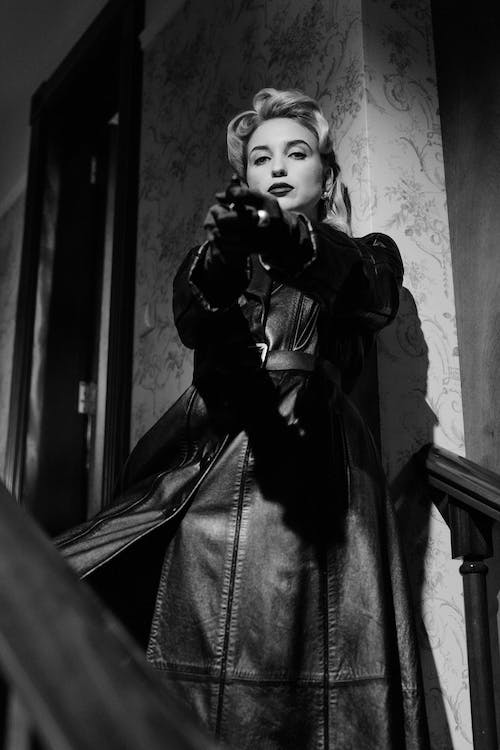gun: (222, 172, 257, 217)
